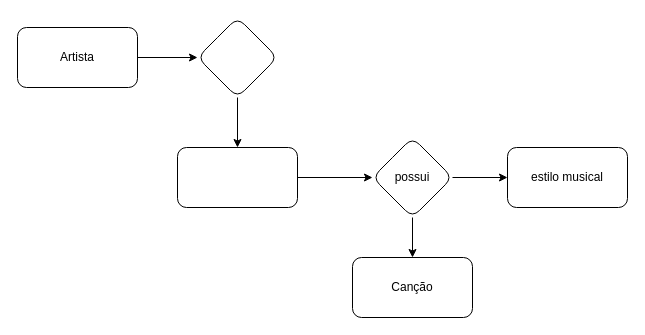
Some shapes in this 645 by 335 pixel diagram are drawn without their labels. Here are the shapes that lost their labels. From the top down, the box of each, then its label:
(196, 16, 278, 98): Produz
(176, 146, 298, 208): Album
